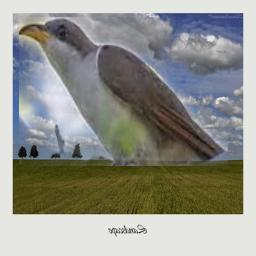Cuckoo: (19, 17, 228, 166)
